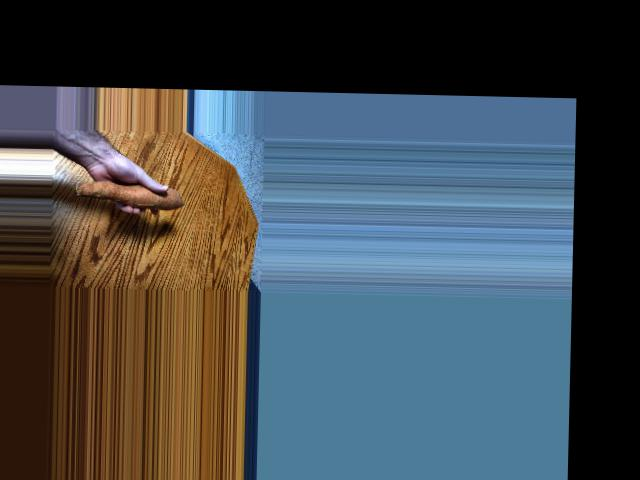sweet_potato: (72, 174, 190, 210)
